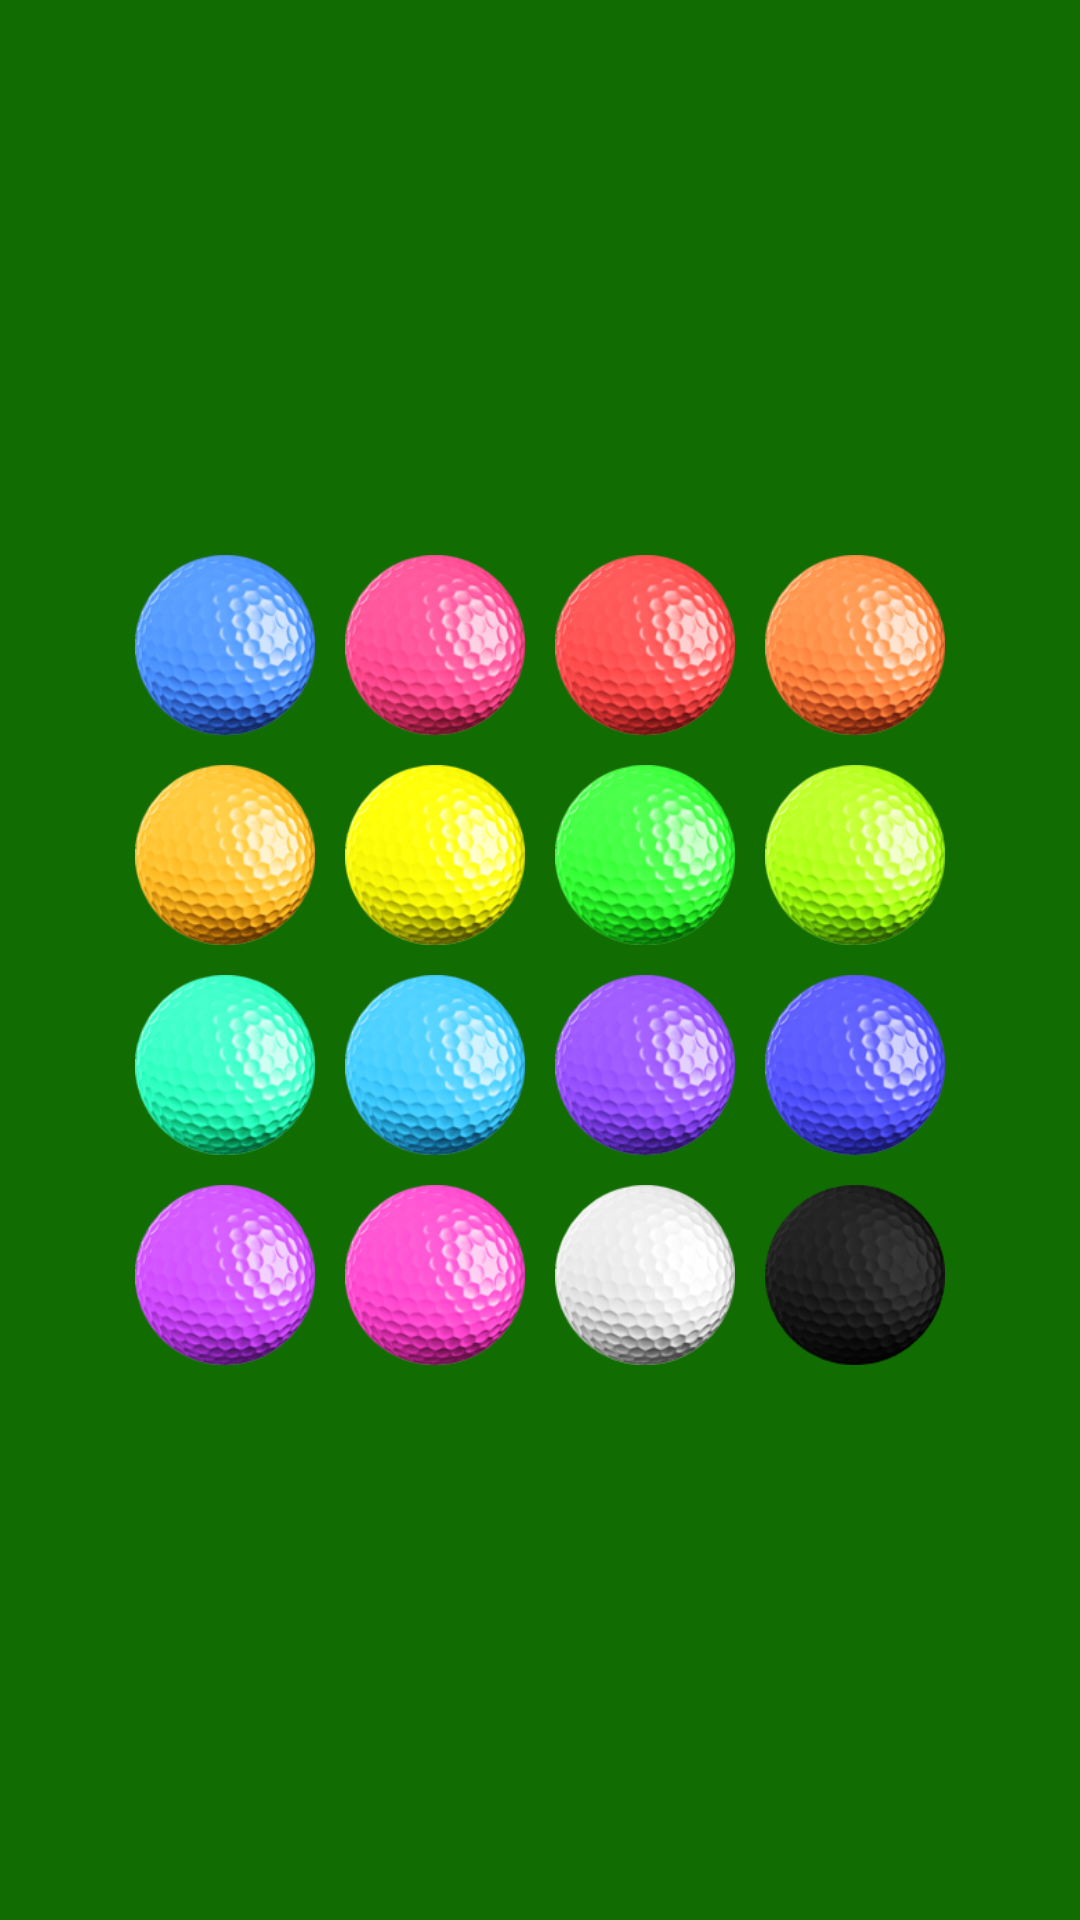

Icons on this 1080*1920 Android screen, each with the point to tap as (x,y):
indigo ball: (855,1065)
lime ball: (855,855)
magenta ball: (435,1275)
skyblue ball: (435,1065)
